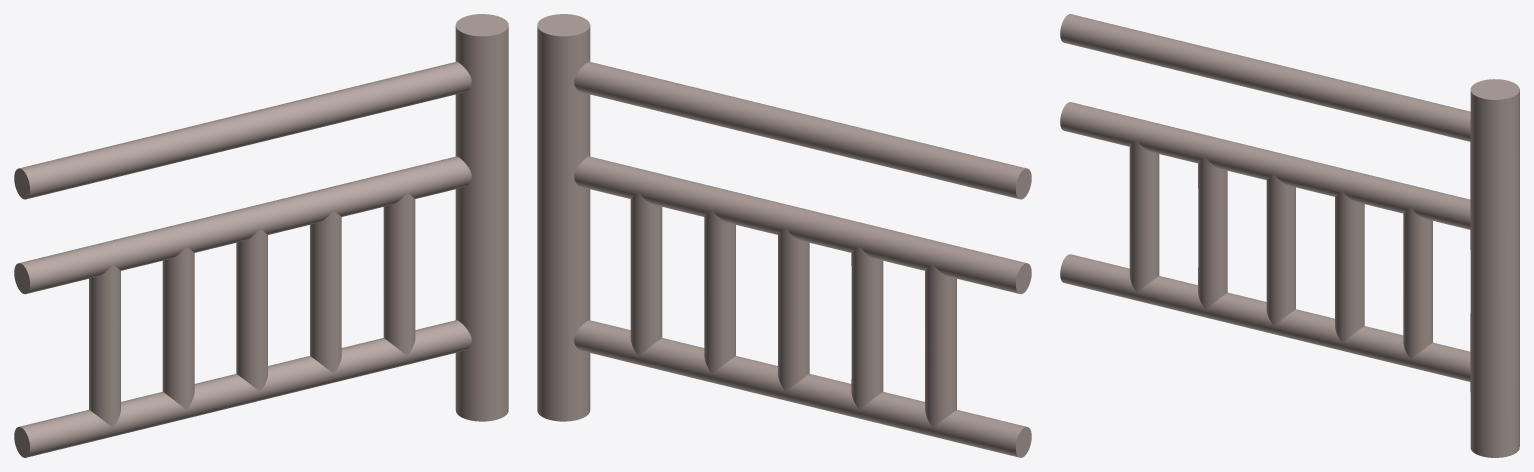
File: 1032_fence_connect.glb
3 renders of one model, left to right at view 1: azimuth 30°, elevation 25°; view 2: azimuth 150°, elevation 25°; view 3: azimuth 330°, elevation 25°, orthographic. The views are drawn at different scales.
Parts seen in each view (by area): view 1: Body; view 2: Body; view 3: Body.
Part boxes in pixels (<box>): Body: <box>14,14,508,457</box>; Body: <box>537,14,1031,457</box>; Body: <box>1060,14,1519,457</box>.
Bounding box in the file's own units: 1.58 × 1.2 × 0.15.
